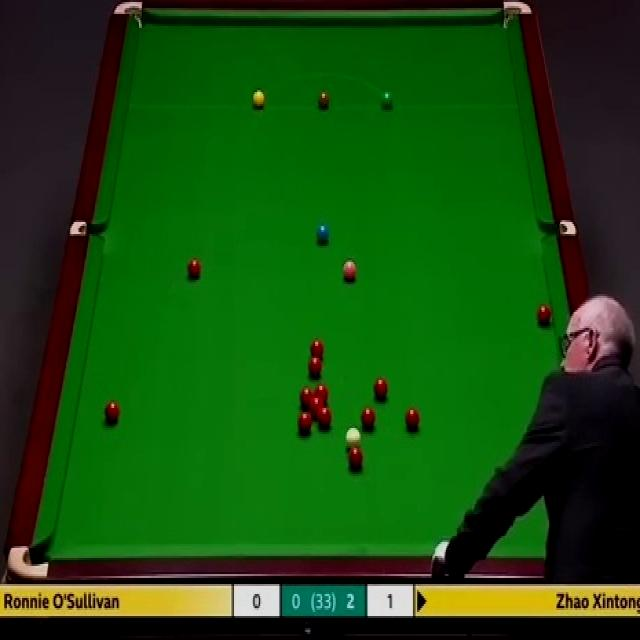blue-ball: (315, 222, 330, 245)
brown-ball: (317, 90, 330, 110)
green-ball: (380, 89, 393, 110)
pink-ball: (340, 260, 360, 288)
red-ball: (346, 445, 364, 471), (183, 258, 201, 281), (373, 376, 389, 401), (103, 400, 119, 424), (360, 407, 376, 431), (404, 408, 420, 432), (537, 304, 552, 328), (316, 408, 332, 430), (308, 357, 323, 378), (299, 390, 314, 410), (298, 412, 312, 433), (314, 384, 329, 403), (309, 342, 324, 361), (310, 398, 323, 416)
white-ball: (344, 428, 362, 454)
yellow-ball: (253, 90, 265, 110)
